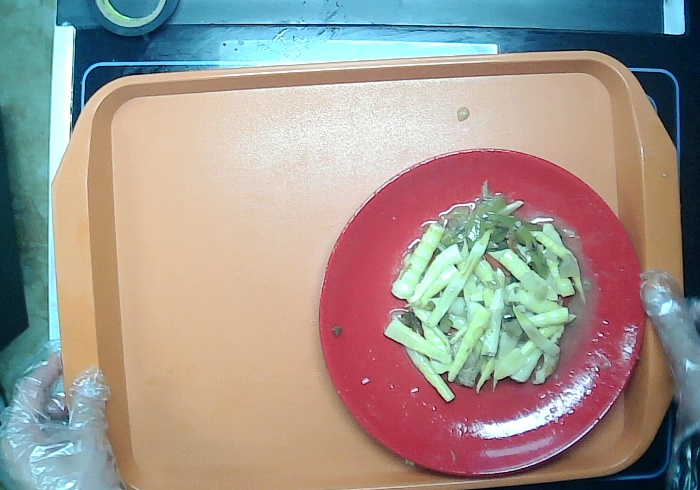HZYJPL-Hong_Se_Yuan_Pan: (311, 142, 655, 483)
